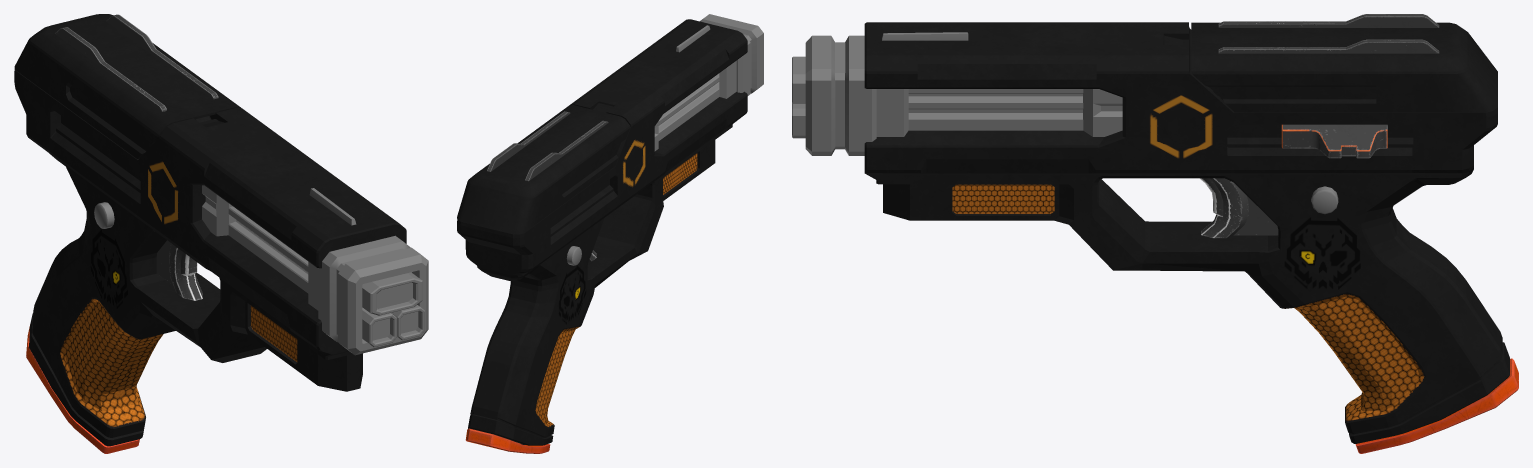
The model's file is handgun .gltf.
3 renders of one model, left to right at view 1: azimuth 30°, elevation 25°; view 2: azimuth 150°, elevation 25°; view 3: azimuth 270°, elevation 25°, orthographic. The views are drawn at different scales.
Parts seen in each view (by area): view 1: polySurface6, polySurface4, magazine; view 2: polySurface6, polySurface4, magazine; view 3: polySurface6, polySurface4, magazine.
Boxes of the visible parts, x1,y1,x2,y2 form: polySurface6: [14, 70, 428, 446]; polySurface4: [14, 14, 241, 158]; magazine: [26, 326, 139, 453]; polySurface6: [457, 14, 763, 445]; polySurface4: [457, 105, 630, 233]; magazine: [465, 428, 550, 453]; polySurface6: [792, 22, 1509, 443]; polySurface4: [1191, 14, 1497, 112]; magazine: [1355, 358, 1518, 453].
Bounding box in the file's own units: 0.045 × 0.1586 × 0.2499.
Materials: 1 (1 with a texture image).
